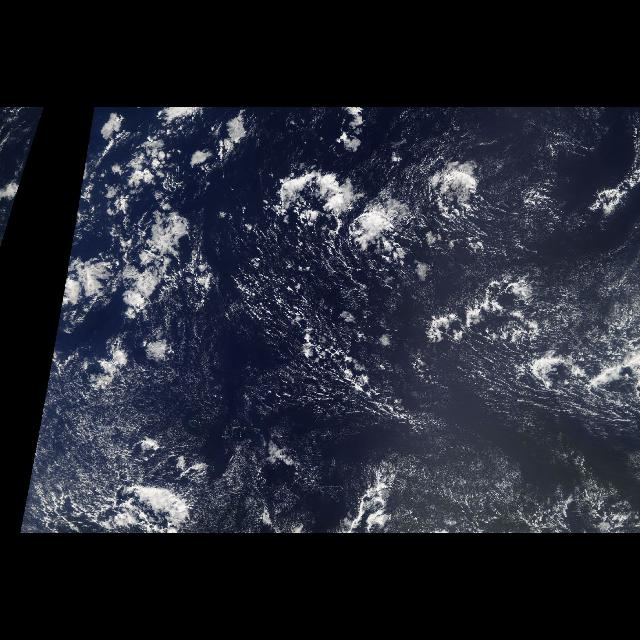Gravel: (217, 210, 636, 526)
Sugar: (59, 333, 635, 533), (248, 120, 630, 330)
